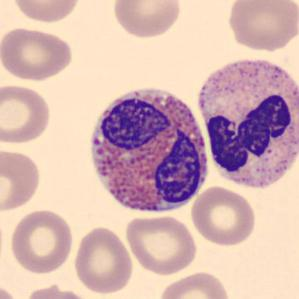Eosinophil: (82, 78, 214, 223)
Neutrophil: (192, 48, 299, 198)
RBC: (123, 213, 198, 276), (7, 207, 75, 275), (72, 224, 134, 295), (188, 185, 258, 247), (0, 25, 76, 82), (224, 0, 297, 52), (0, 82, 53, 146), (110, 0, 184, 40), (0, 146, 43, 213), (157, 269, 231, 299), (10, 0, 83, 25), (22, 282, 95, 299), (0, 280, 21, 299)
